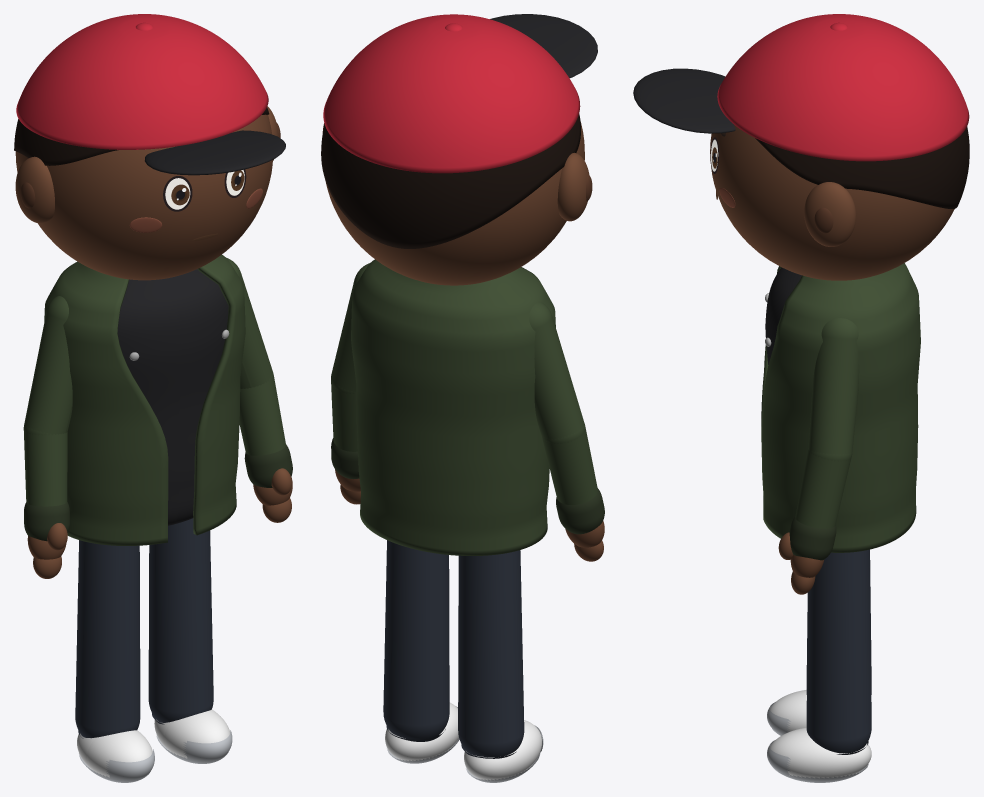
The model's file is volgeling_b.glb.
The picture shows the model from 3 angles, left to right: view 1: azimuth 30°, elevation 25°; view 2: azimuth 150°, elevation 25°; view 3: azimuth 270°, elevation 25°; orthographic projection.
Visible parts, largest first — view 1: volgeling_b_jas, volgeling_b_pet, volgeling_b_hoofd, volgeling_b_romp, volgeling_b_been_R, volgeling_b_been_L, volgeling_b_bovenarm_R, volgeling_b_pet_klep, volgeling_b_onderarm_R, volgeling_b_onderarm_L, volgeling_b_schoen_R, volgeling_b_schoen_L (+11 smaller); view 2: volgeling_b_jas, volgeling_b_pet, volgeling_b_haar, volgeling_b_been_R, volgeling_b_been_L, volgeling_b_hoofd, volgeling_b_bovenarm_R, volgeling_b_pet_klep, volgeling_b_onderarm_R, volgeling_b_schoen_R, volgeling_b_schoen_L, volgeling_b_oor_R (+5 smaller); view 3: volgeling_b_jas, volgeling_b_pet, volgeling_b_hoofd, volgeling_b_been_L, volgeling_b_haar, volgeling_b_bovenarm_L, volgeling_b_pet_klep, volgeling_b_onderarm_L, volgeling_b_schoen_L, volgeling_b_oor_L, volgeling_b_manchet_L, volgeling_b_romp (+1 smaller).
Boxes of the visible parts, bbox=[...] form: volgeling_b_jas: bbox=[44, 254, 245, 545]; volgeling_b_pet: bbox=[16, 14, 268, 149]; volgeling_b_hoofd: bbox=[15, 114, 272, 280]; volgeling_b_romp: bbox=[117, 269, 228, 525]; volgeling_b_been_R: bbox=[75, 540, 140, 738]; volgeling_b_been_L: bbox=[148, 518, 213, 722]; volgeling_b_bovenarm_R: bbox=[24, 296, 72, 435]; volgeling_b_pet_klep: bbox=[144, 130, 285, 175]; volgeling_b_onderarm_R: bbox=[23, 427, 67, 506]; volgeling_b_onderarm_L: bbox=[239, 375, 285, 455]; volgeling_b_schoen_R: bbox=[77, 730, 152, 777]; volgeling_b_schoen_L: bbox=[154, 709, 230, 758]; volgeling_b_jas: bbox=[351, 259, 555, 555]; volgeling_b_pet: bbox=[323, 14, 580, 173]; volgeling_b_haar: bbox=[321, 114, 580, 248]; volgeling_b_been_R: bbox=[458, 550, 524, 757]; volgeling_b_been_L: bbox=[383, 540, 449, 739]; volgeling_b_hoofd: bbox=[326, 122, 584, 285]; volgeling_b_bovenarm_R: bbox=[529, 302, 584, 443]; volgeling_b_pet_klep: bbox=[490, 14, 597, 78]; volgeling_b_onderarm_R: bbox=[542, 428, 597, 504]; volgeling_b_schoen_R: bbox=[464, 720, 541, 780]; volgeling_b_schoen_L: bbox=[385, 702, 458, 760]; volgeling_b_oor_R: bbox=[557, 152, 589, 221]; volgeling_b_jas: bbox=[761, 263, 920, 552]; volgeling_b_pet: bbox=[717, 14, 969, 161]; volgeling_b_hoofd: bbox=[710, 124, 954, 280]; volgeling_b_been_L: bbox=[806, 549, 871, 753]; volgeling_b_haar: bbox=[755, 126, 969, 208]; volgeling_b_bovenarm_L: bbox=[808, 318, 859, 460]; volgeling_b_pet_klep: bbox=[633, 68, 735, 133]; volgeling_b_onderarm_L: bbox=[795, 449, 851, 528]; volgeling_b_schoen_L: bbox=[769, 727, 871, 778]; volgeling_b_oor_L: bbox=[804, 182, 855, 246]; volgeling_b_manchet_L: bbox=[789, 517, 836, 560]; volgeling_b_romp: bbox=[765, 267, 801, 364].
Size of the model in its own units: 0.6707 by 1.79 by 0.743.
